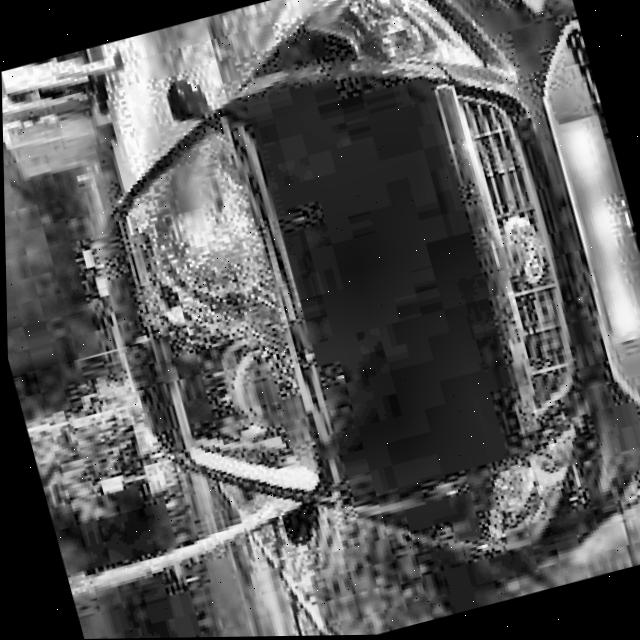glass_shatter: (122, 144, 277, 314)
